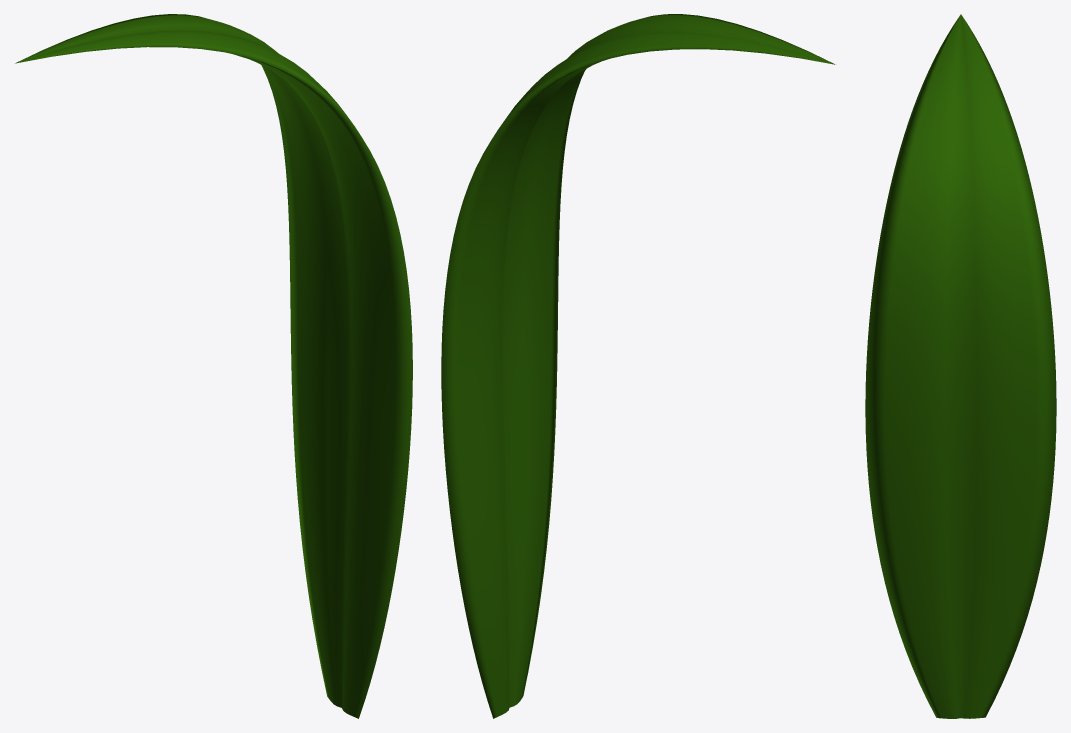
3 renders of one model, left to right at view 1: azimuth 30°, elevation 25°; view 2: azimuth 150°, elevation 25°; view 3: azimuth 270°, elevation 25°, orthographic. The views are drawn at different scales.
Visible parts, largest first — view 1: ТраекторияNurbs.005; view 2: ТраекторияNurbs.005; view 3: ТраекторияNurbs.005.
Boxes of the visible parts, x1,y1,x2,y2 form: ТраекторияNurbs.005: (15,14,412,718); ТраекторияNurbs.005: (441,14,835,718); ТраекторияNurbs.005: (865,14,1056,718).
Size of the model in its own units: 145 by 288 by 86.06.
